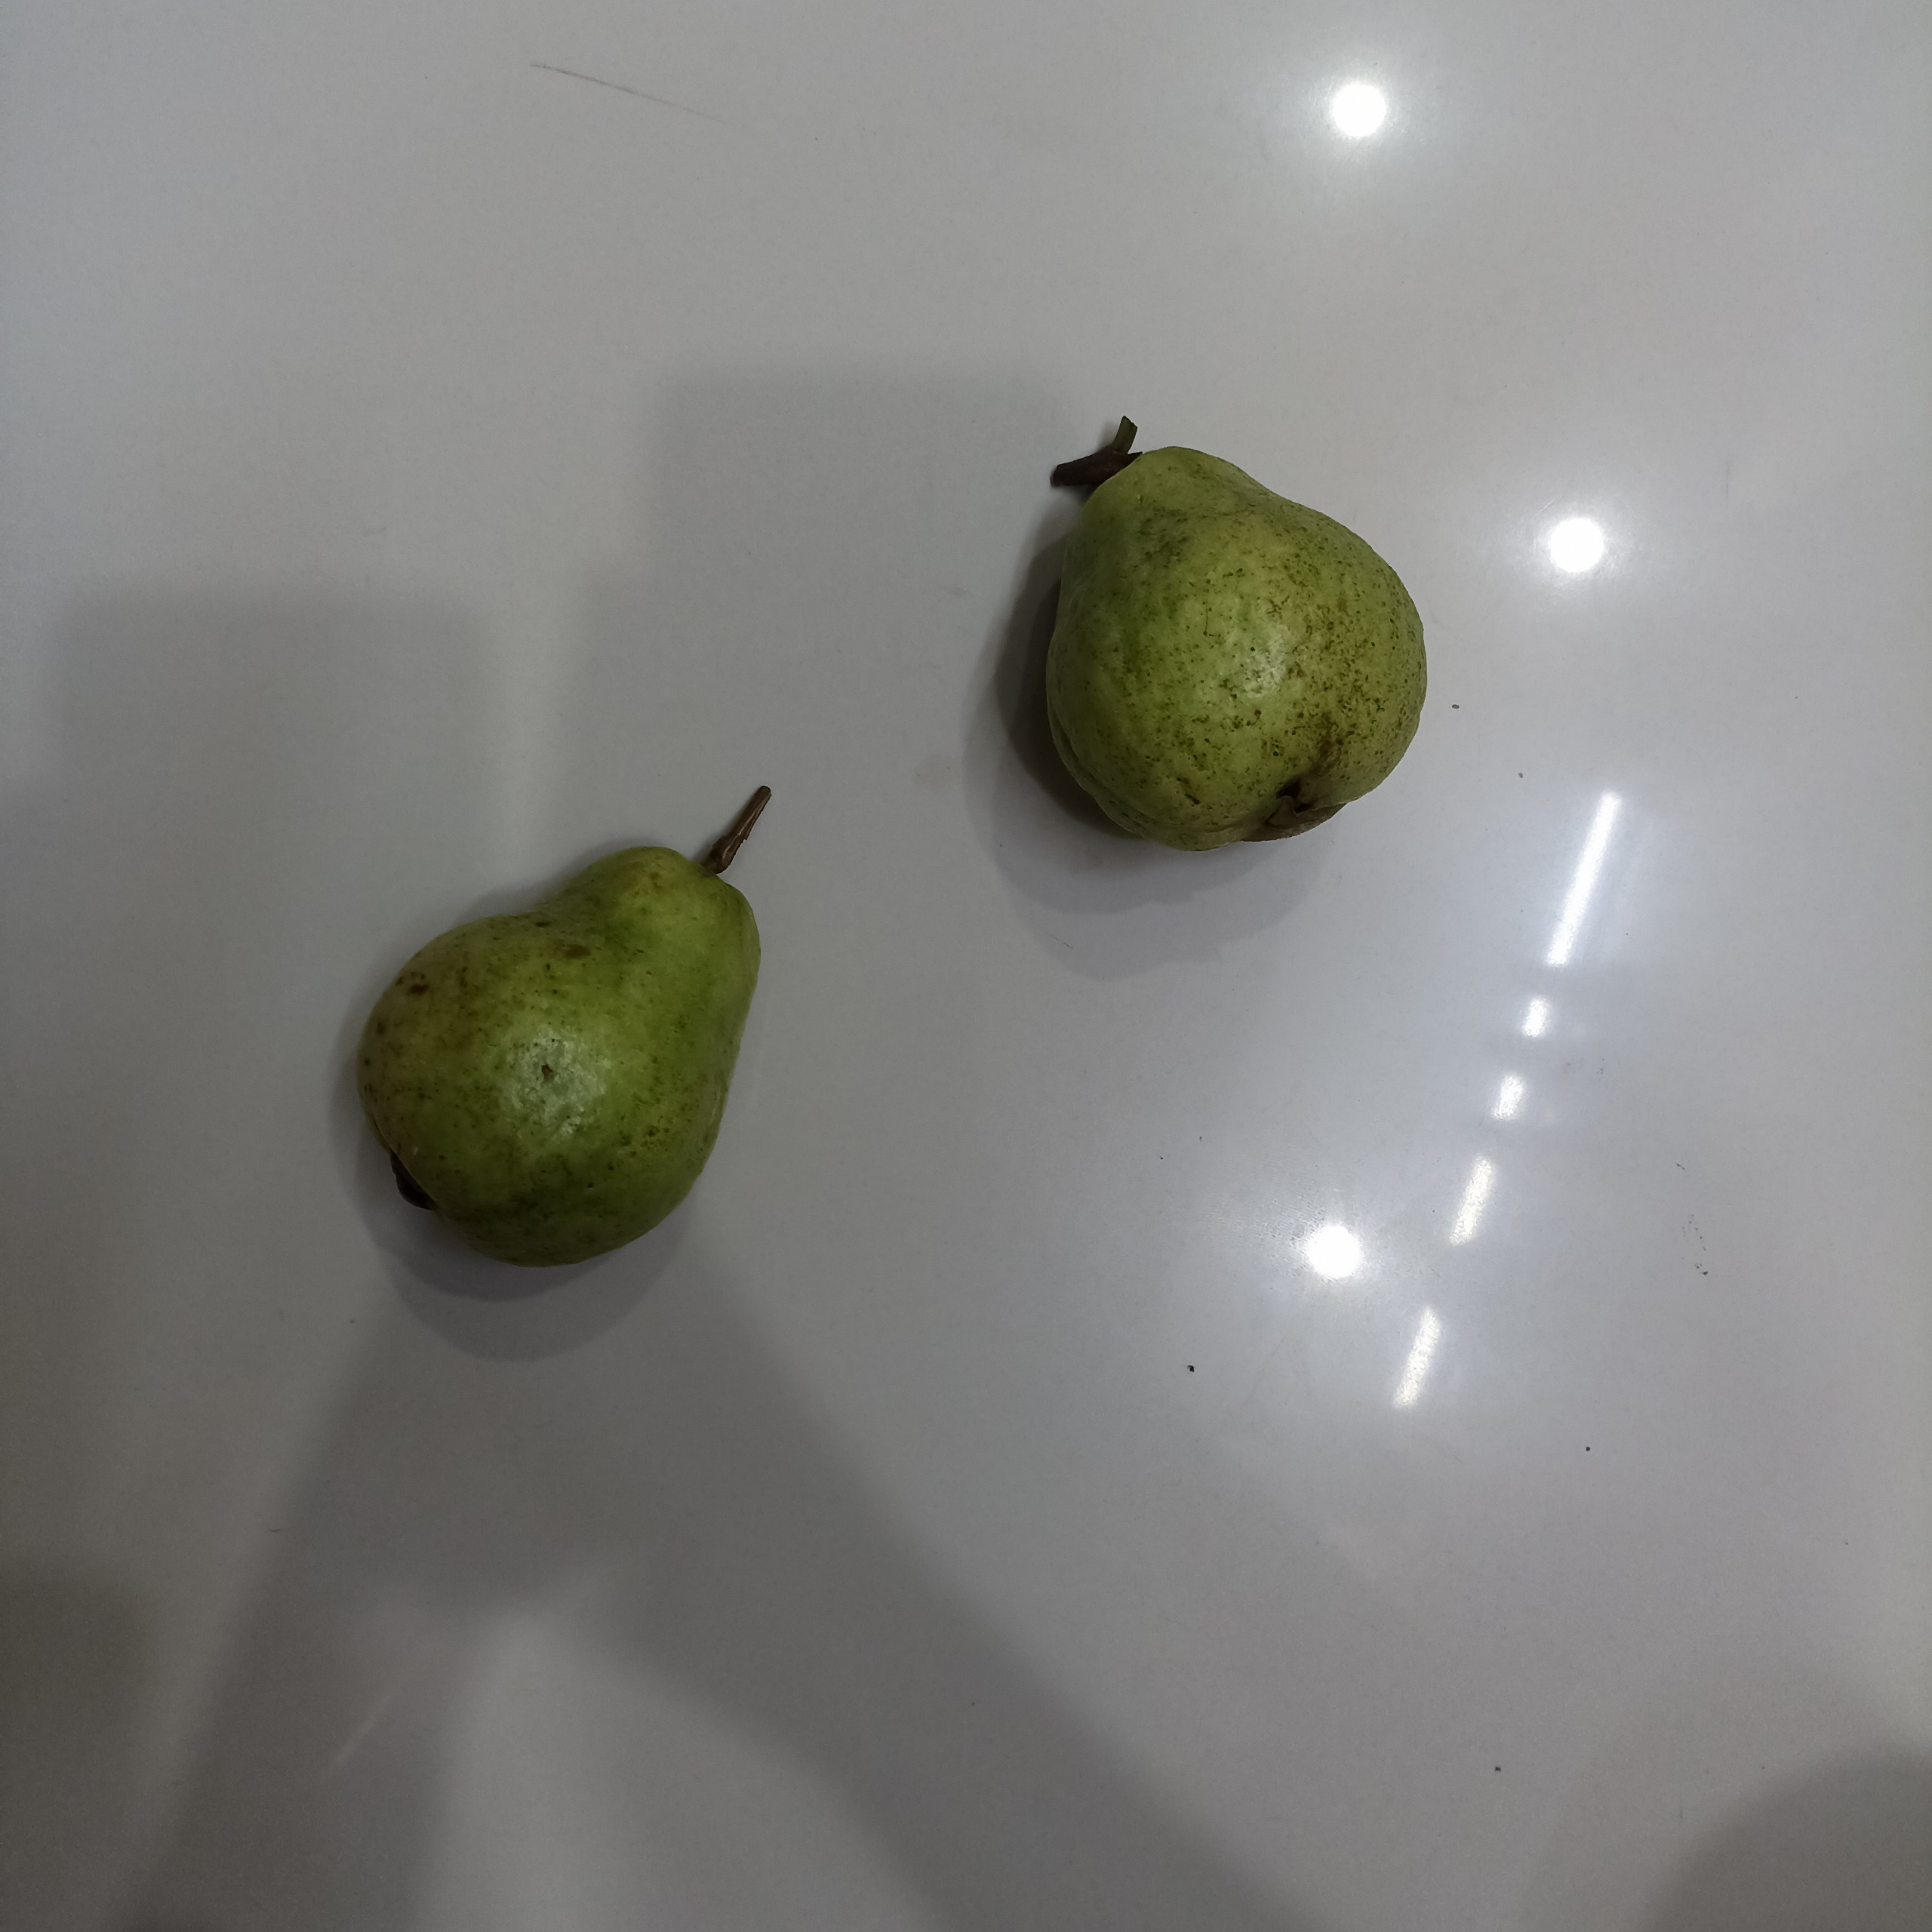Oi: (364, 841, 762, 1270), (1043, 449, 1424, 854)
